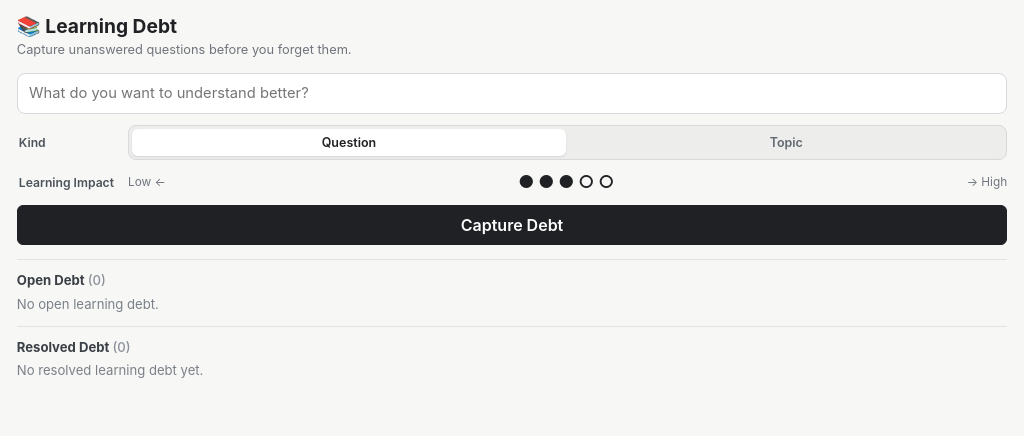
Test: App › captures debt with title, kind, impact, and open status
Type "Understand JWT claims" into the field named "Learning Debt" at (512, 93), box [17,73,1007,114]
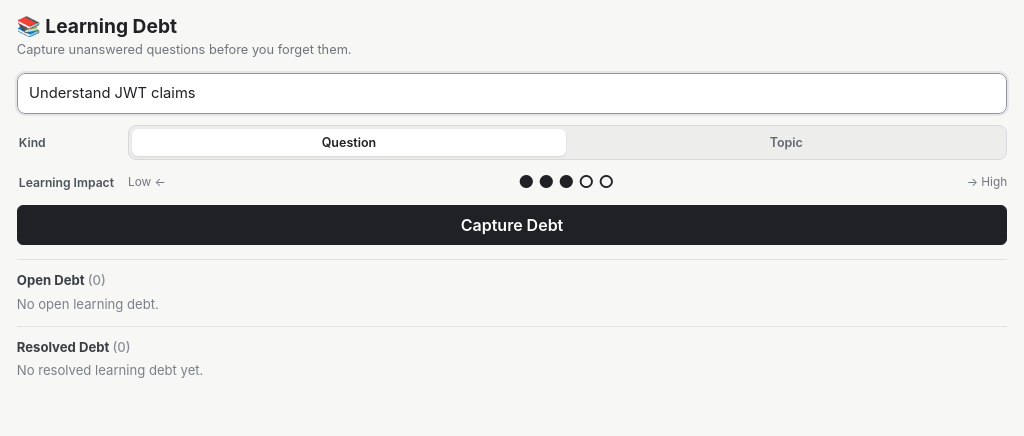
Click the button "Topic" at (786, 142), box [569,129,1003,156]
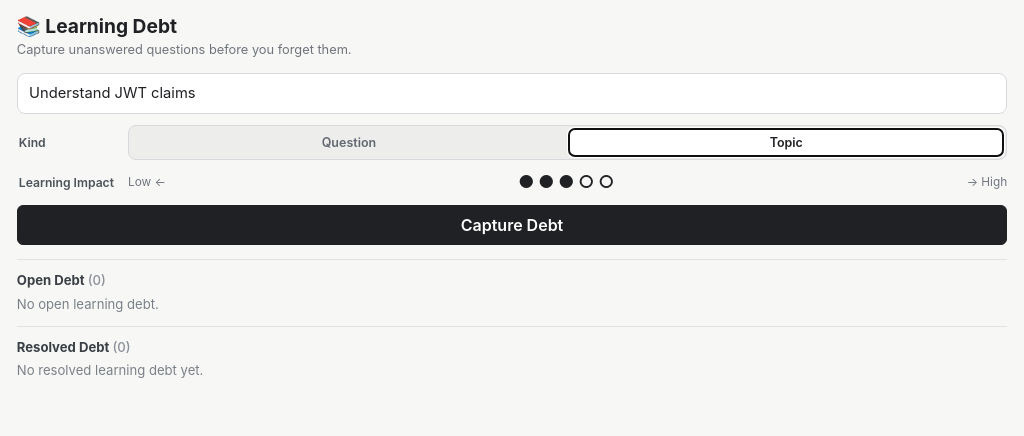
Click the button named "Set learning impact to 5" at (606, 182), box [597,171,615,193]
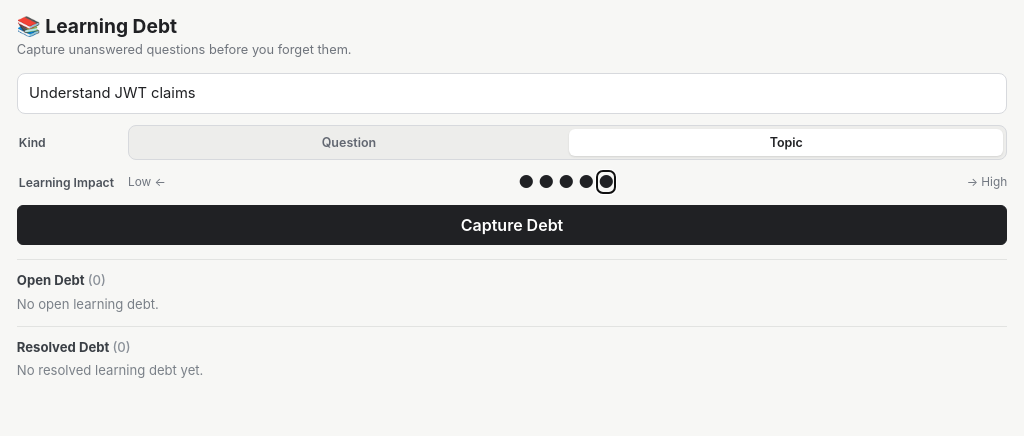
Click the button "Capture Debt" at (512, 225), box [17,204,1007,245]
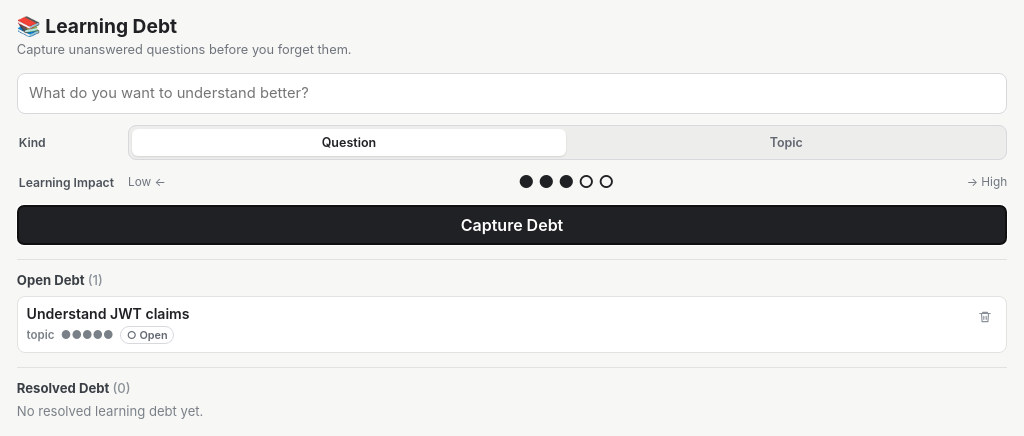
Expected: the text "Understand JWT claims" is shown, [27,305,190,322]
Expected: the text "Open" is shown, [140,328,168,342]
